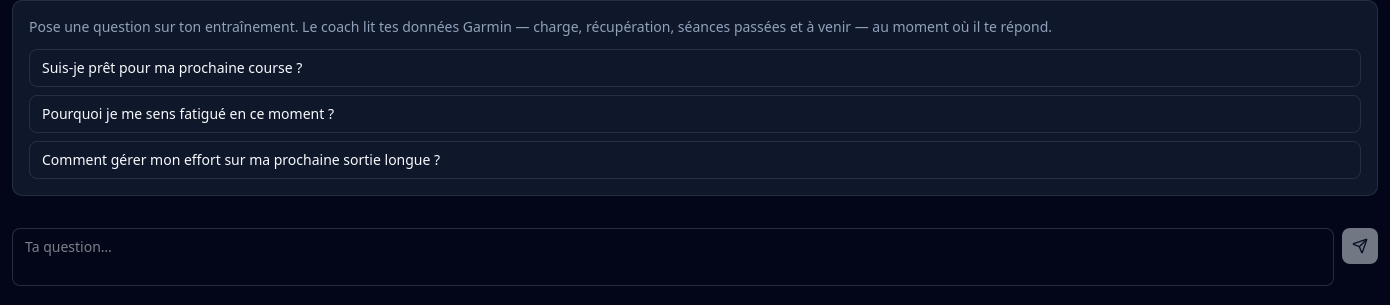
Scenario: ChatPanel › lists the data the coach consulted
Type "q" into the text box with placeholder "Ta question…" at (673, 257), box left=12, top=228, right=1334, bottom=286
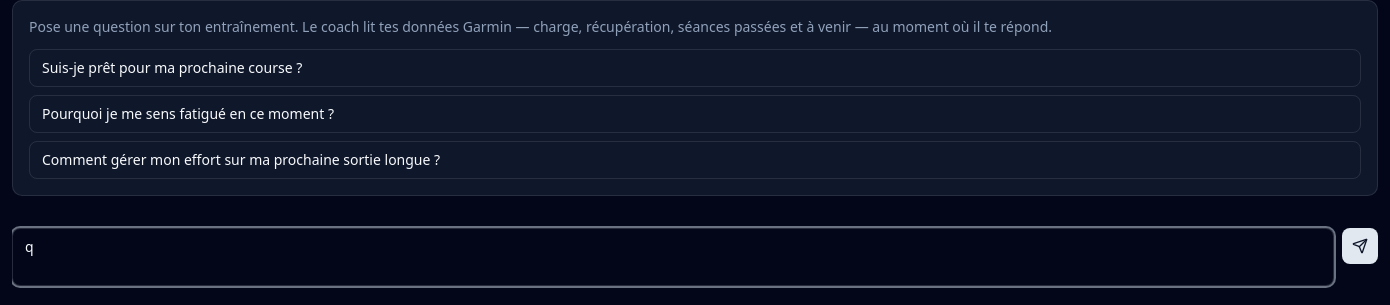
Click the button named "Envoyer" at (1360, 246), box left=1342, top=228, right=1378, bottom=264
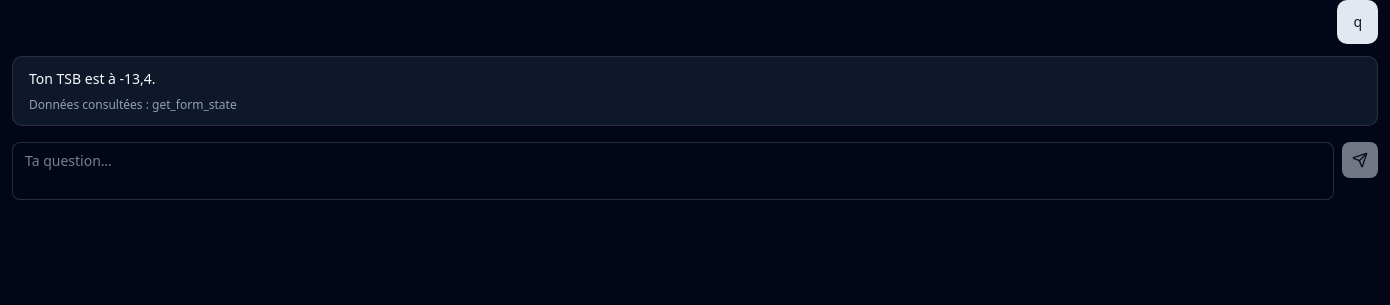
Result: the text "Données consultées : get_form_state" is shown at left=29, top=96, right=237, bottom=113
